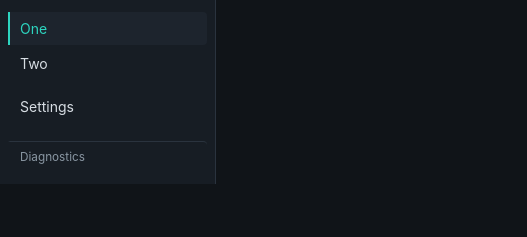
it: the shell mechanism (the navigation contract, FRONTEND_UIUX_LAW §2.1) › diagnostic labels NEVER appear in the rail — only behind the entry
Check: the button "Gateway" is not shown
Check: the button "Load probe" is not shown
Step 1. Click the button "Diagnostics" → (108, 156), box [8,141,207,172]
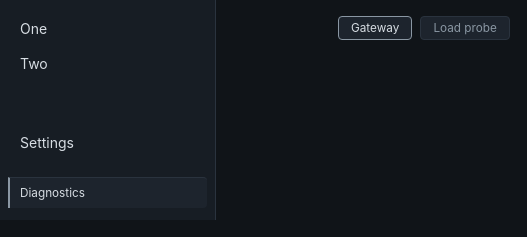
Check: the button "Gateway" is shown, box [338,16,412,40]
Check: the button "Load probe" is shown, box [420,16,510,40]
